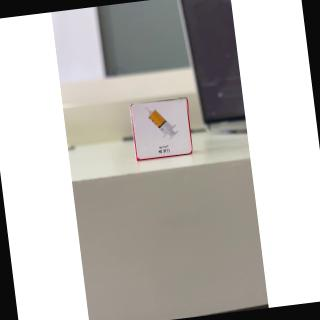Syringe: (132, 98, 196, 163)
